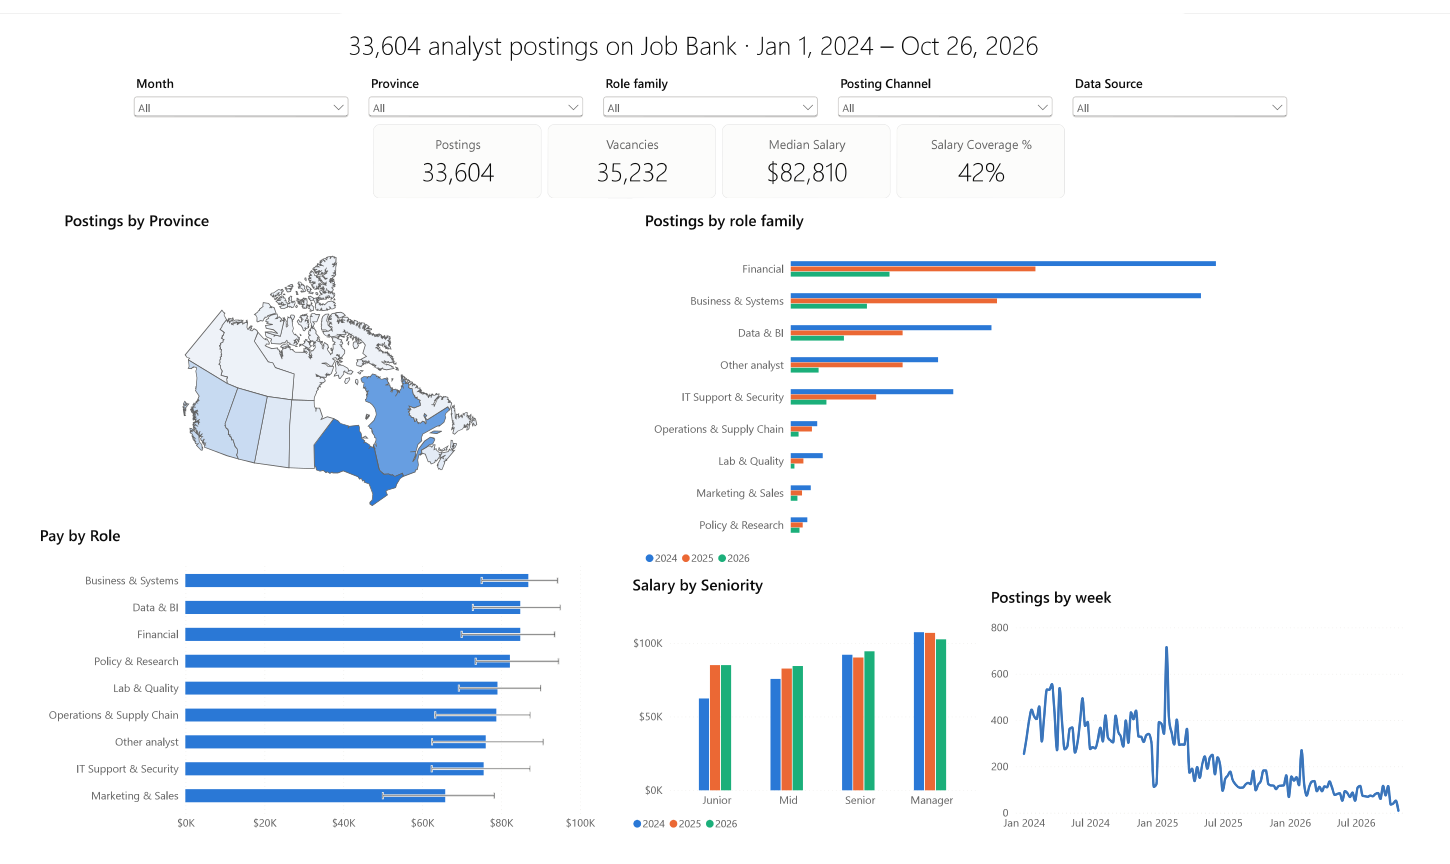

This screenshot's page, from the dashboard's own definition file:
{"tool":"powerbi","page":{"name":"Page 1","canvas":[1920,1080],"ordinal":0},"visuals":[{"type":"cardVisual","fields":{"Data":["_Measures.Postings","_Measures.Vacancies","_Measures.Median Salary","_Measures.Salary Coverage %"]},"box":[496,144,896,96],"z":0},{"type":"slicer","fields":{"Values":["dim_date.month"]},"box":[180.9,80,288,64],"z":1000},{"type":"slicer","fields":{"Values":["dim_province.province_name"]},"box":[484.9,80,288,64],"z":3000},{"type":"slicer","fields":{"Values":["dim_role_family.role_family"]},"box":[788.9,80,288,64],"z":4000},{"type":"slicer","title":"Job Source","fields":{"Values":["fact_postings.posting_source"]},"box":[1092.9,80,288,64],"z":5000},{"type":"shapeMap","title":"Postings by Province","fields":{"Category":["dim_province.province_name"],"Value":["_Measures.Postings"]},"box":[80,240,720,432],"z":6000},{"type":"clusteredBarChart","title":"Postings by role family","fields":{"Category":["dim_role_family.role_family"],"Series":["dim_date.year"],"Y":["_Measures.Postings"]},"box":[832,240,816,496],"z":7000},{"type":"cardVisual","fields":{"Data":["_Measures.Report Scope"]},"box":[448,0,1104,80],"z":7001},{"type":"clusteredBarChart","title":"Pay by Role","fields":{"Category":["dim_role_family.role_family"],"Y":["_Measures.Median Salary – Canada"]},"box":[48,648,752,432],"z":7002},{"type":"clusteredColumnChart","title":"Salary by Seniority","fields":{"Category":["dim_seniority.seniority"],"Series":["dim_date.year"],"Y":["_Measures.Median Salary – Canada"]},"box":[816,712,480,368],"z":7003},{"type":"lineChart","title":"Postings by week","fields":{"Category":["dim_date.week_start"],"Y":["_Measures.Postings"]},"box":[1280,728,576,352],"z":7004},{"type":"slicer","fields":{"Values":["fact_postings.data_source"]},"box":[1396.9,80,288,64],"z":7005}]}

Visuals, with their boxes on the page's 1920x1080 design canvas (x1, y1, x2, y2). These are canvas units, not pixel positions in the 1450x864 screenshot, which may show the page scaled, cropped or inside an application window:
cardVisual - _Measures.Postings x _Measures.Vacancies: x1=496, y1=144, x2=1392, y2=240
slicer - dim_date.month: x1=181, y1=80, x2=469, y2=144
slicer - dim_province.province_name: x1=485, y1=80, x2=773, y2=144
slicer - dim_role_family.role_family: x1=789, y1=80, x2=1077, y2=144
"Job Source" slicer: x1=1093, y1=80, x2=1381, y2=144
"Postings by Province" shapeMap: x1=80, y1=240, x2=800, y2=672
"Postings by role family" clusteredBarChart: x1=832, y1=240, x2=1648, y2=736
cardVisual - _Measures.Report Scope: x1=448, y1=0, x2=1552, y2=80
"Pay by Role" clusteredBarChart: x1=48, y1=648, x2=800, y2=1080
"Salary by Seniority" clusteredColumnChart: x1=816, y1=712, x2=1296, y2=1080
"Postings by week" lineChart: x1=1280, y1=728, x2=1856, y2=1080
slicer - fact_postings.data_source: x1=1397, y1=80, x2=1685, y2=144
